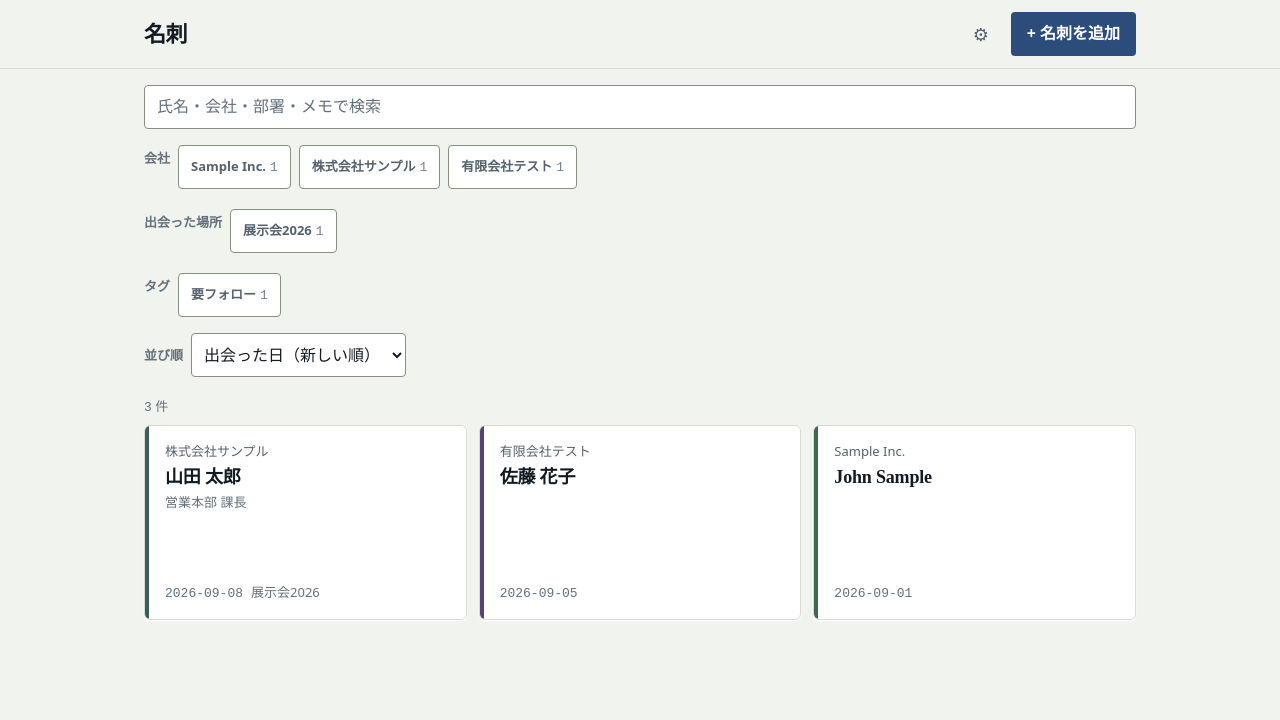
一覧 / 絞り込み › 会社ラベルで絞り込める
Click the button "株式会社サンプル1" at (370, 167), box [299,145,440,189]
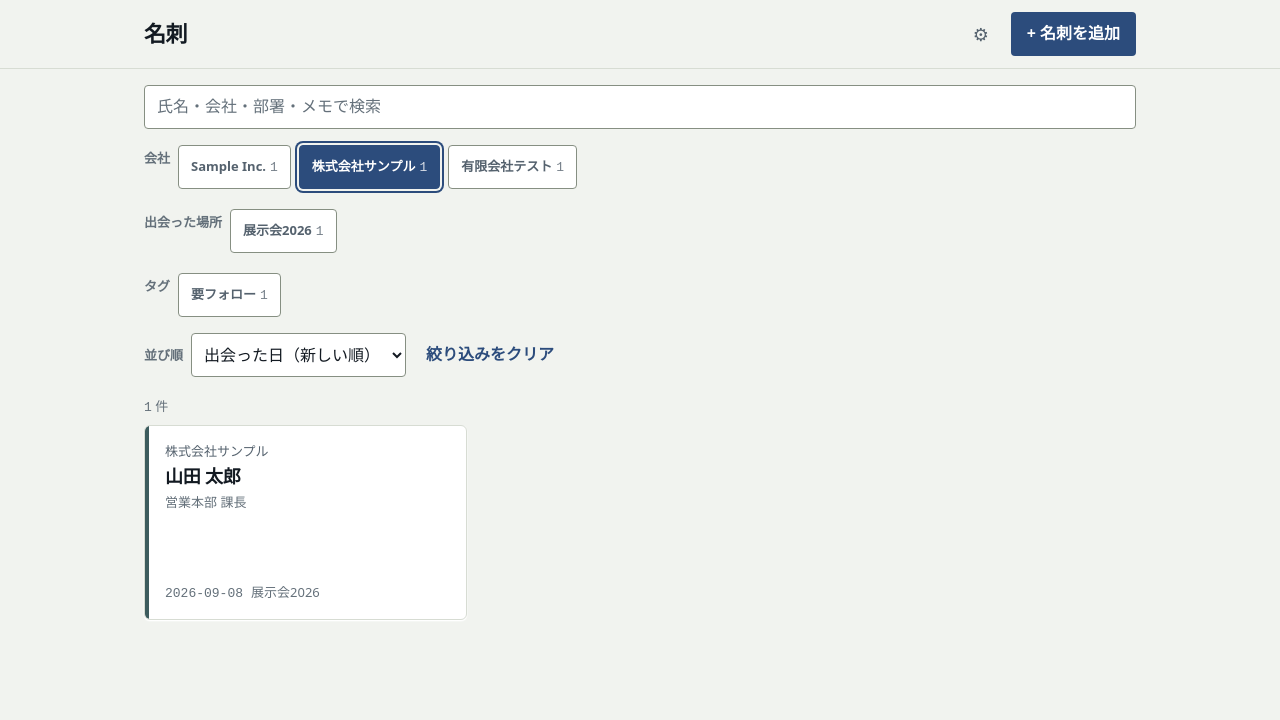
Expected: the text "山田 太郎" is shown, [165,467,241,487]
Result: the link "佐藤 花子" is gone
